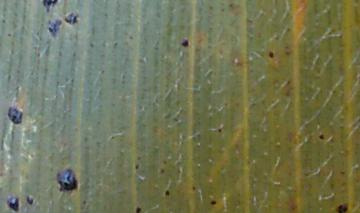tarspot: (53, 166, 78, 193), (4, 104, 24, 127), (46, 16, 61, 39), (62, 10, 81, 26), (38, 1, 59, 14), (7, 194, 19, 213), (335, 202, 349, 213), (24, 193, 34, 207), (180, 38, 190, 49), (337, 169, 346, 177), (134, 205, 142, 213), (267, 50, 274, 59), (209, 199, 217, 206), (317, 133, 325, 140), (163, 189, 171, 196), (133, 163, 140, 171), (135, 154, 142, 162), (157, 168, 166, 174), (216, 127, 223, 134), (189, 184, 196, 191), (161, 159, 167, 165)
